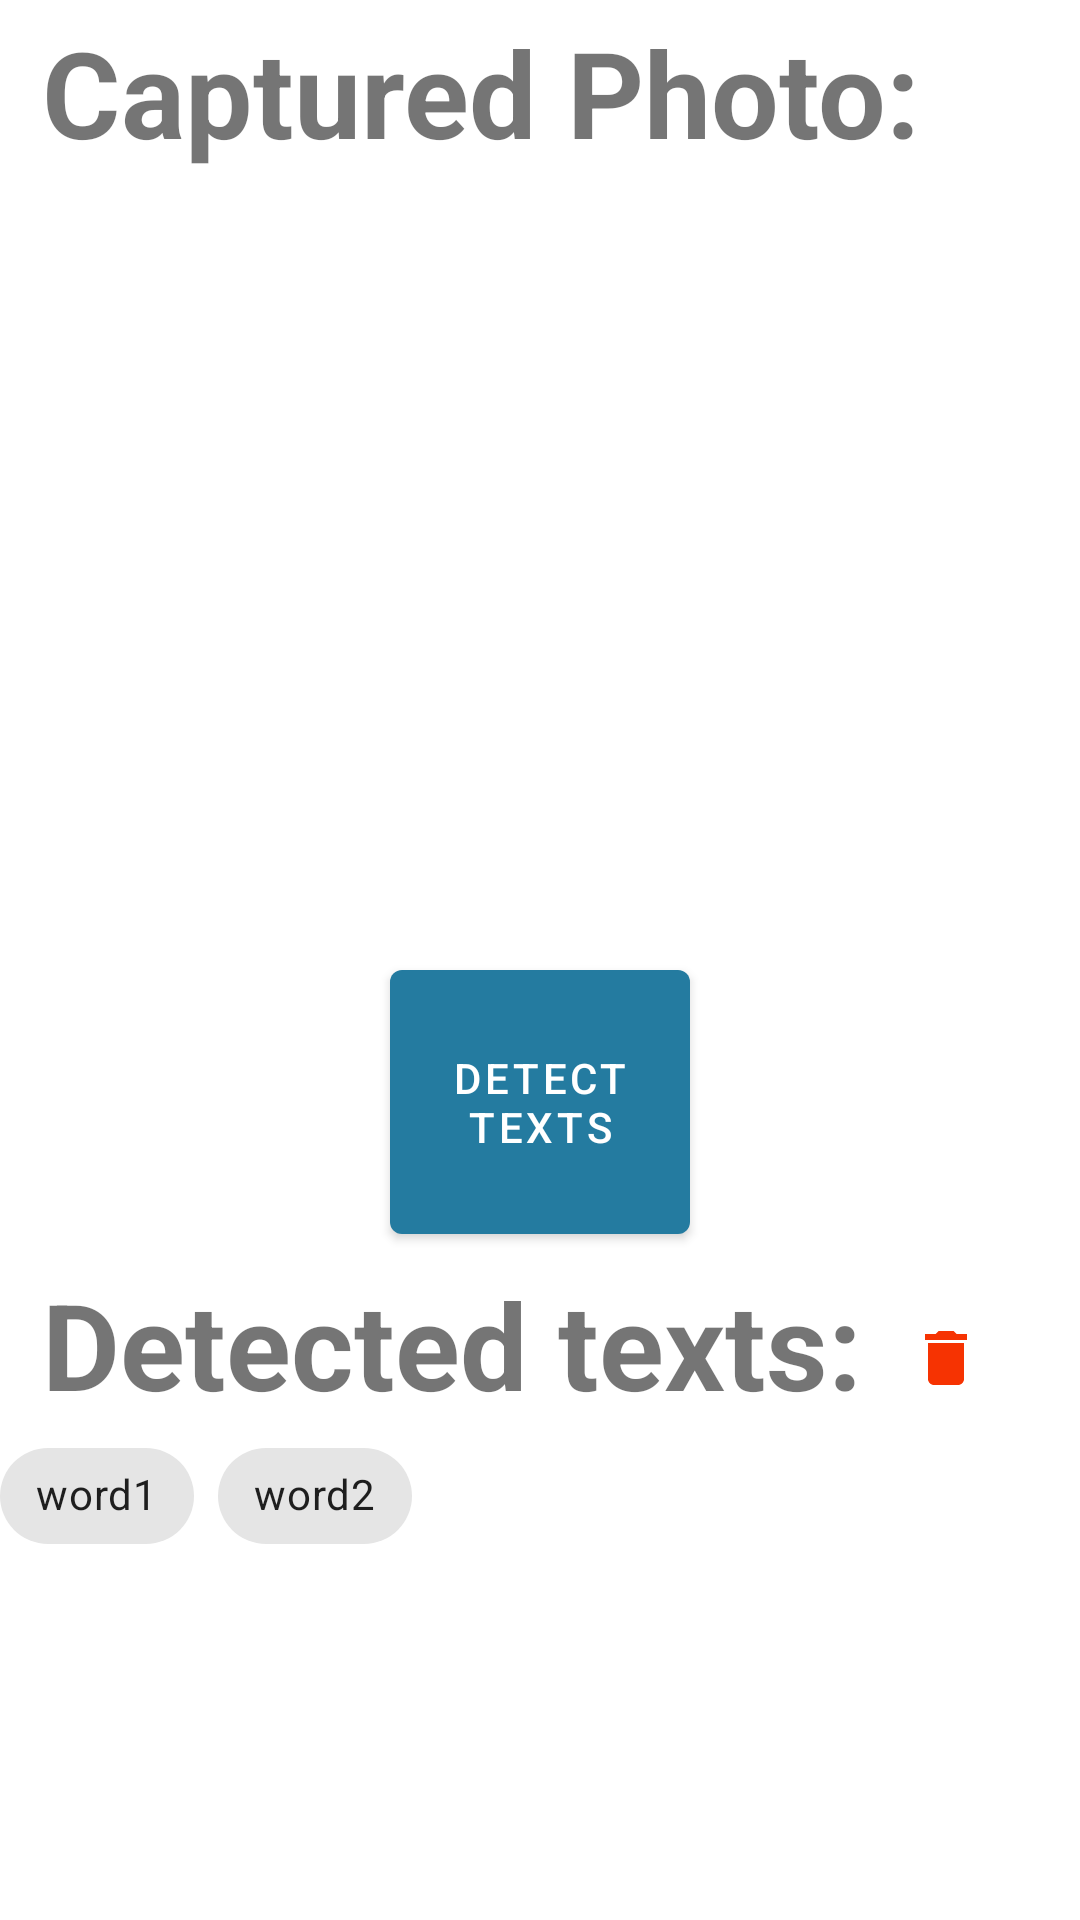

Screen size 1080x1920. Icon name, then its center in pixels as [x,y]:
delete: [946,1358]
